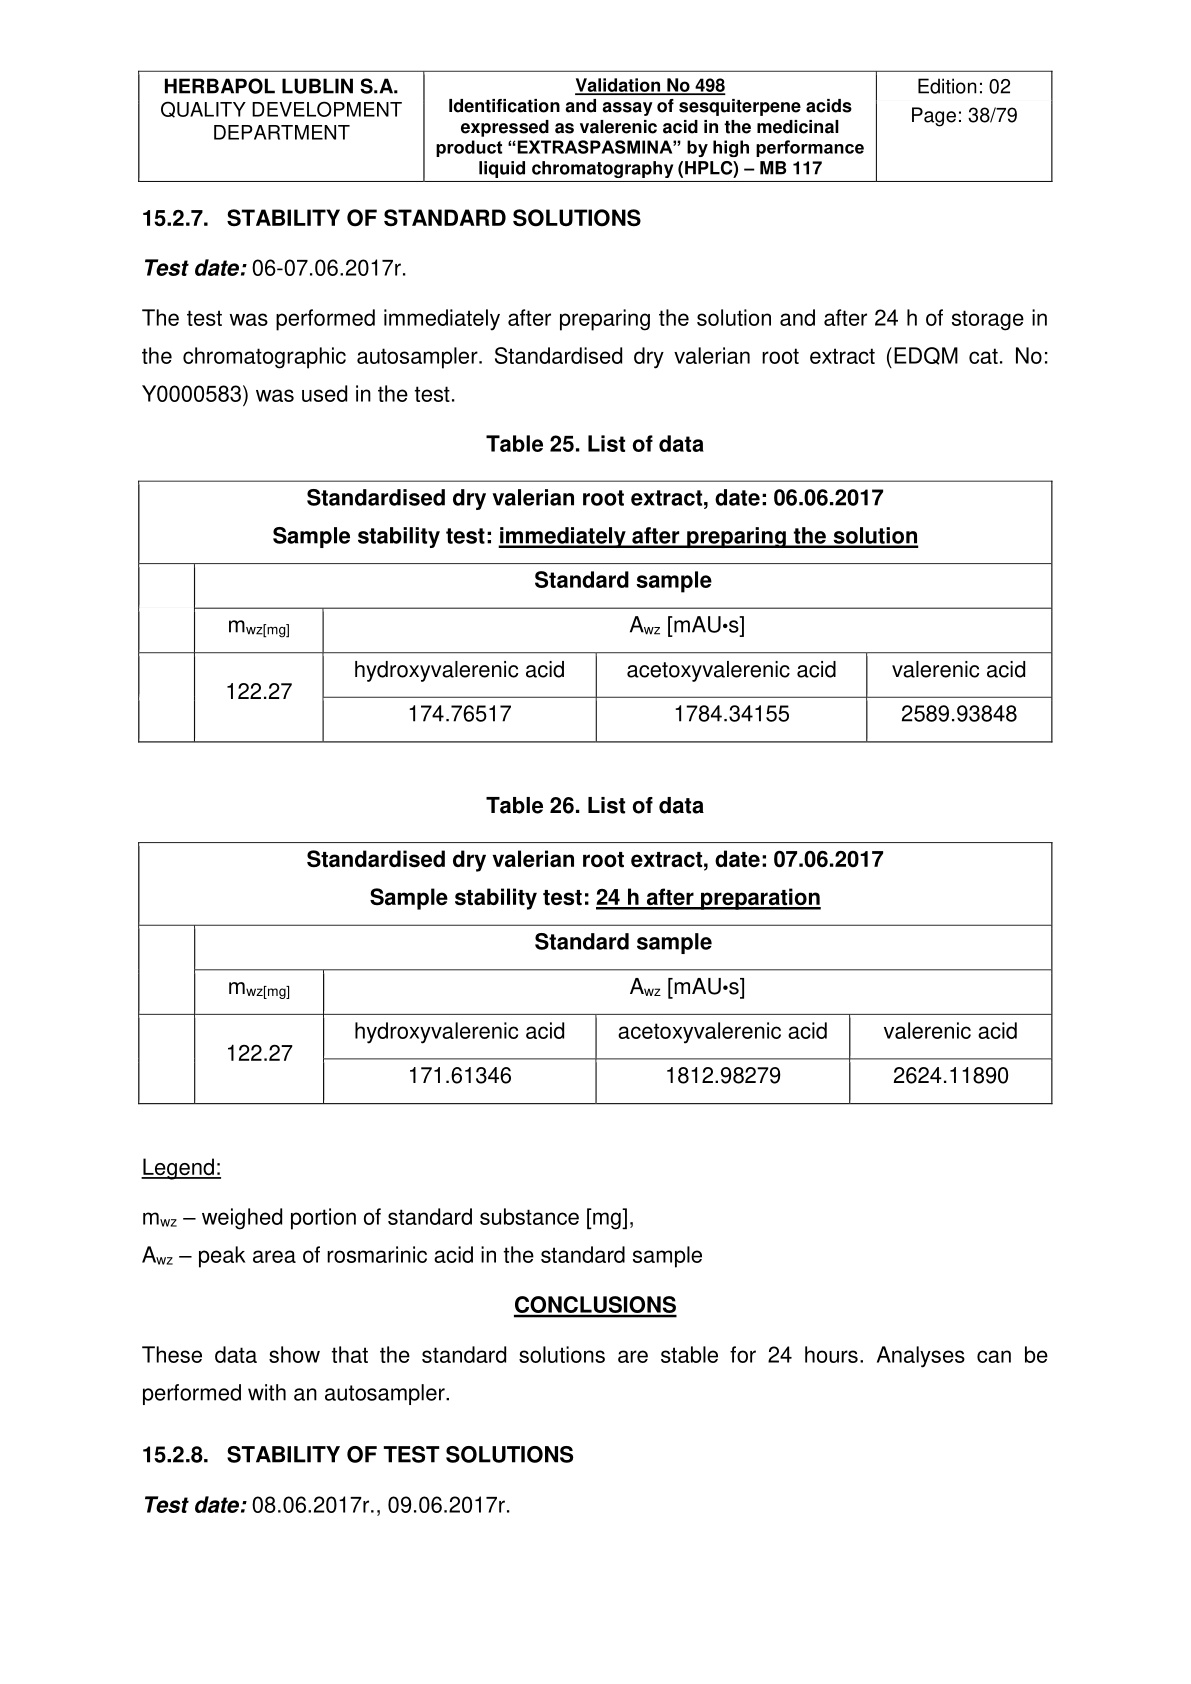full_lined: (137, 70, 1053, 182)
merged_cells: (137, 479, 1054, 743), (137, 841, 1053, 1105)
